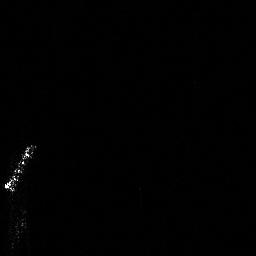ship: (2, 141, 41, 196)
